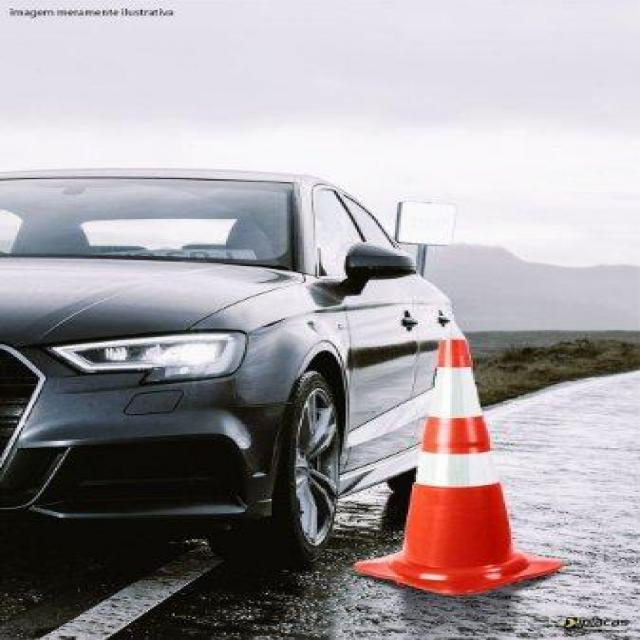Cone: (340, 341, 560, 599)
